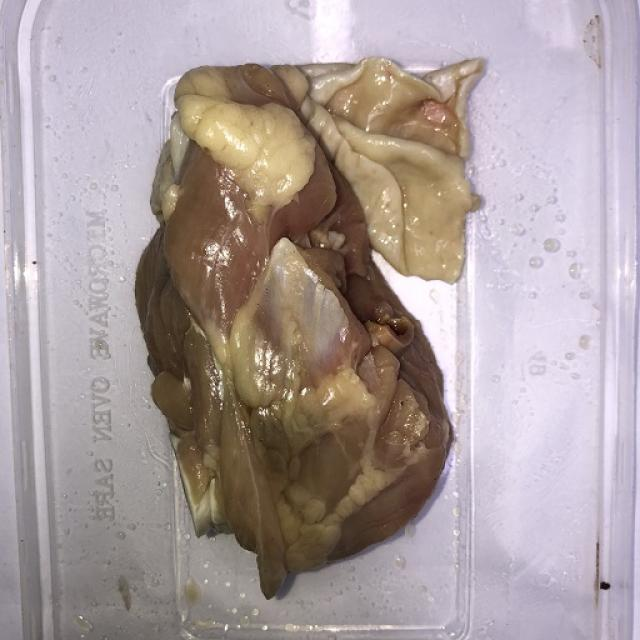Wet Waste: (131, 46, 497, 606)
